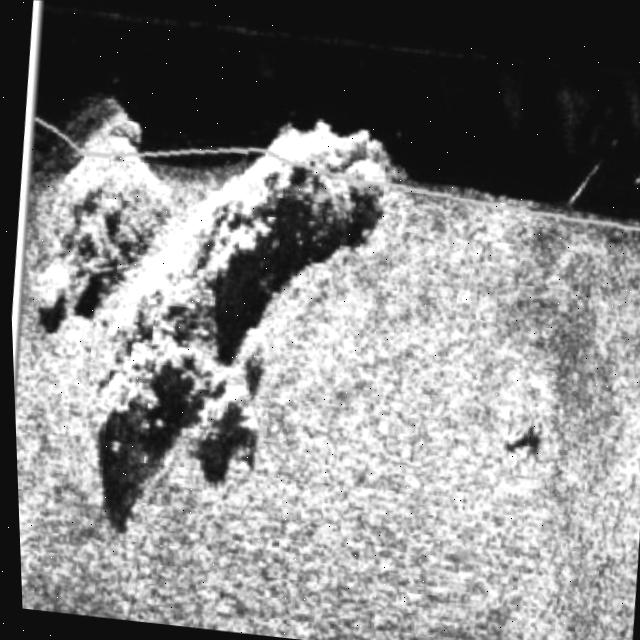bedrock group: (2, 55, 420, 558)
